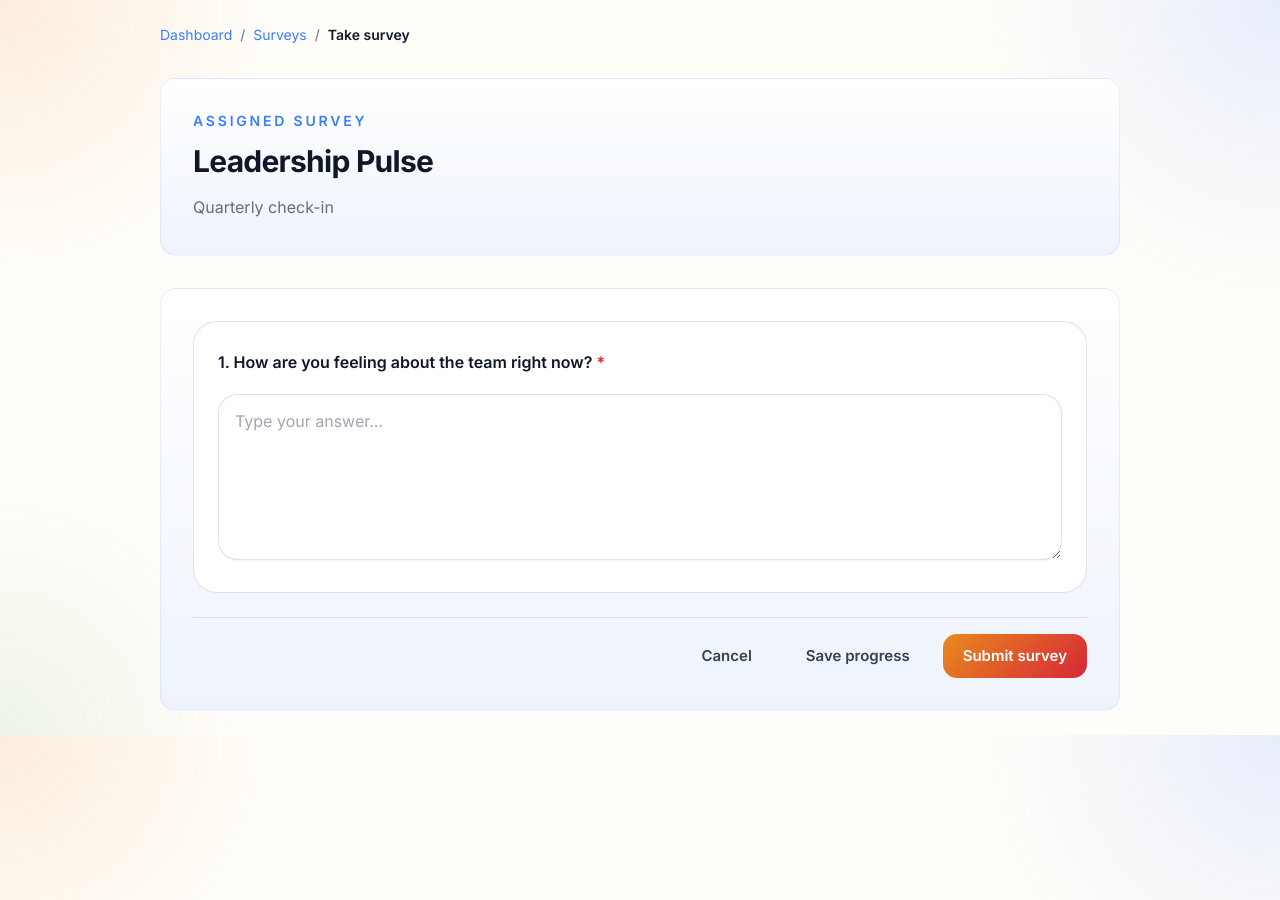
ClientSurveyTake › shows a real error state when submit fails instead of implying success
In the text box with placeholder "Type your answer…": (640,477) [218, 394, 1062, 560], type "Clear and supported."
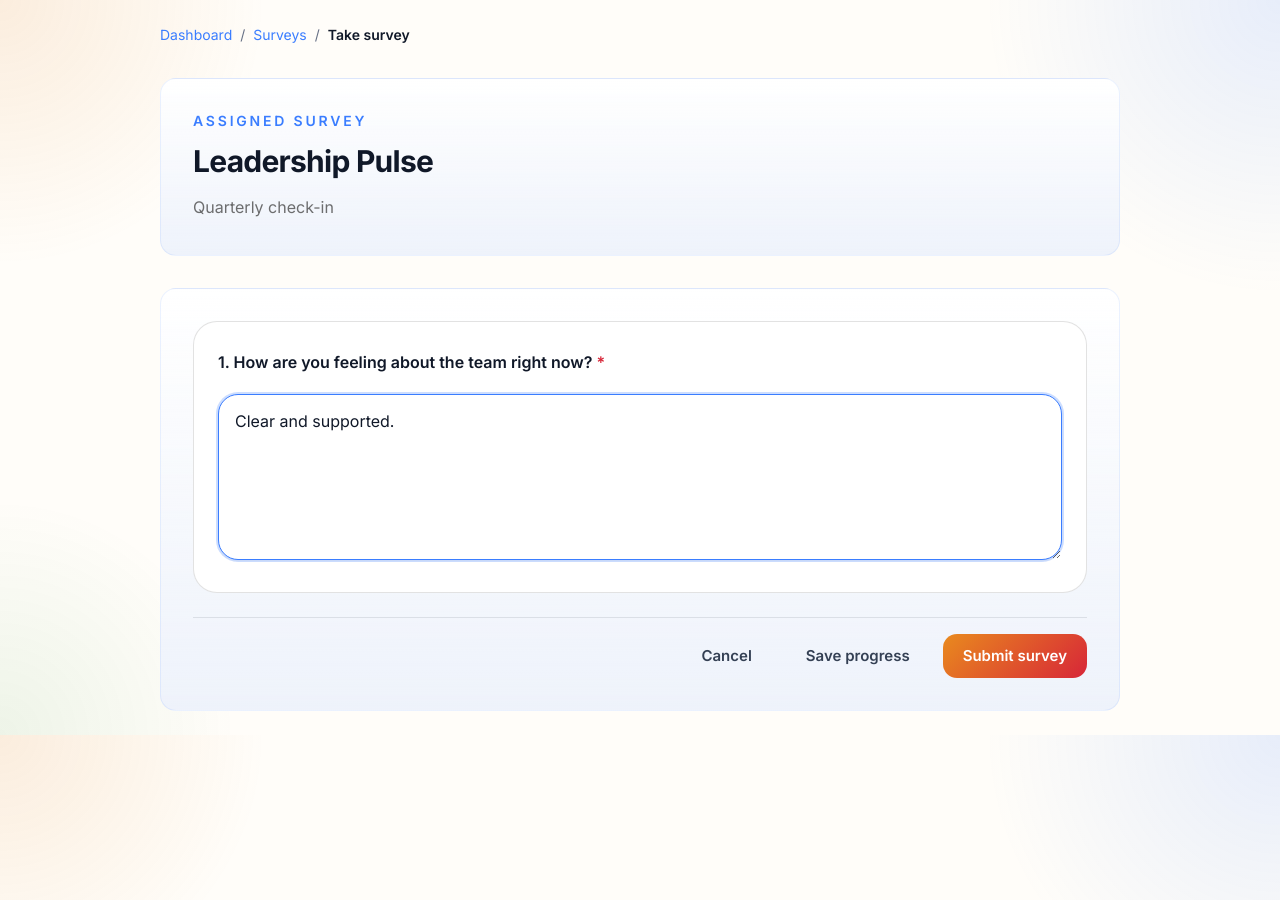
Click the button "Submit survey": (1015,656) [943, 634, 1087, 678]
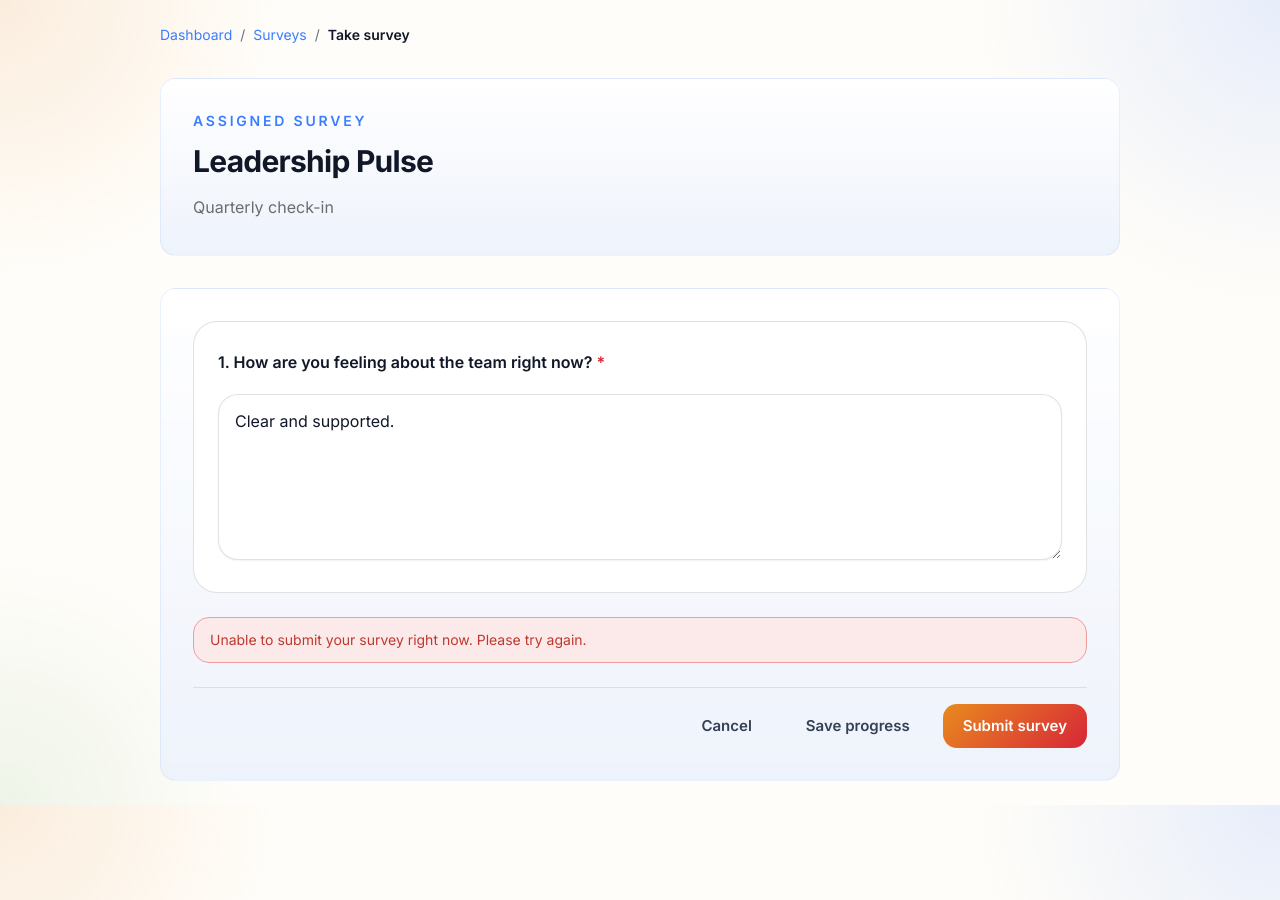
Expected: the text "Unable to submit your survey right now. Please try again." is shown, [193, 617, 1087, 663]
